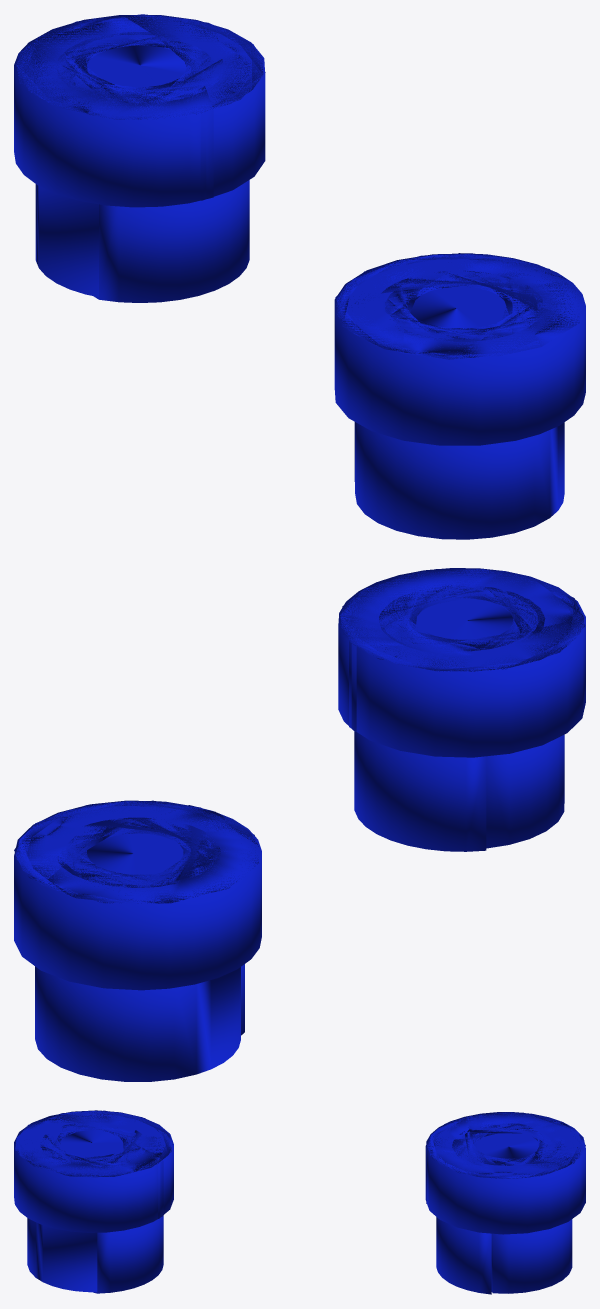
The model's file is tuyeau_element_000059.obj.
3 renders of one model, top to bottom at view 1: azimuth 30°, elevation 25°; view 2: azimuth 150°, elevation 25°; view 3: azimuth 270°, elevation 25°, orthographic. The views are drawn at different scales.
Visible parts, largest first — view 1: tuyeau1_Cube.014, tuyeau2_Cube.017; view 2: tuyeau2_Cube.017, tuyeau1_Cube.014; view 3: tuyeau1_Cube.014, tuyeau2_Cube.017.
Boxes of the visible parts, <box> form: tuyeau1_Cube.014: <box>14,14,265,302</box>; tuyeau2_Cube.017: <box>334,253,585,539</box>; tuyeau2_Cube.017: <box>338,568,585,851</box>; tuyeau1_Cube.014: <box>14,800,261,1081</box>; tuyeau1_Cube.014: <box>425,1112,585,1294</box>; tuyeau2_Cube.017: <box>14,1110,173,1293</box>.
Size of the model in its own units: 3607 by 2917 by 12602.
